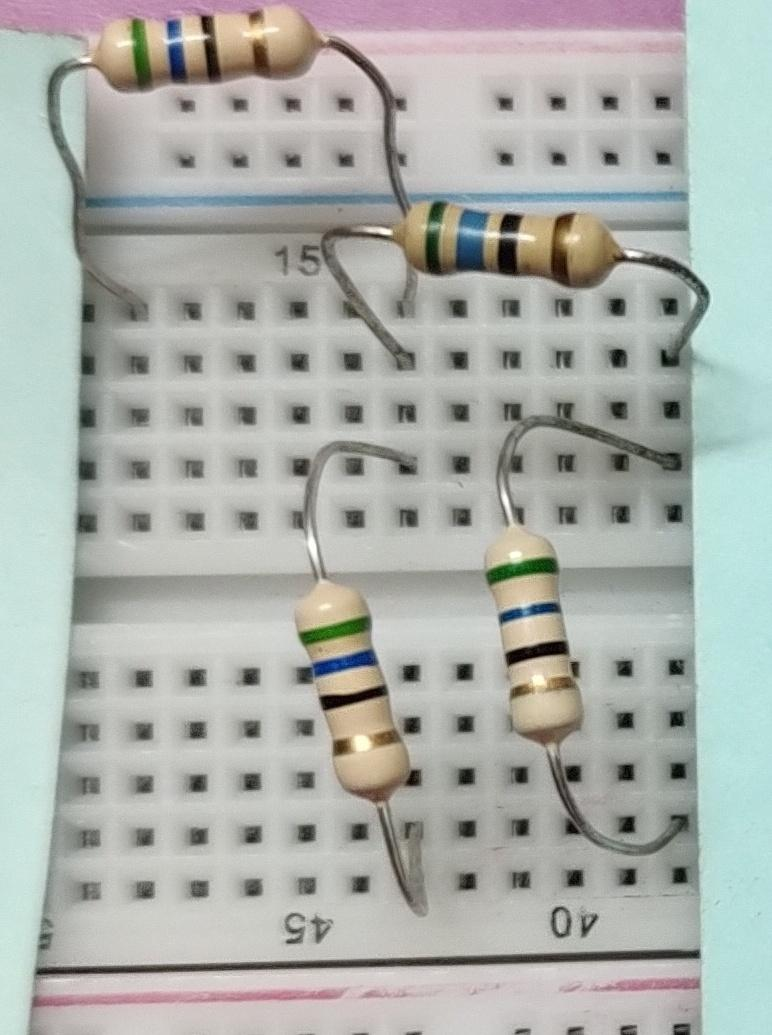resistor: (285, 568, 428, 800), (480, 518, 598, 768), (87, 0, 335, 105), (390, 202, 615, 308)
